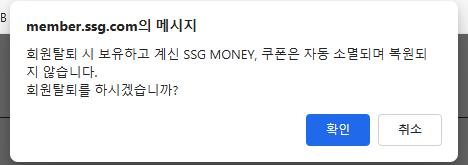button: (307, 113, 371, 146), (379, 115, 442, 146)
popup: (9, 0, 458, 162)
